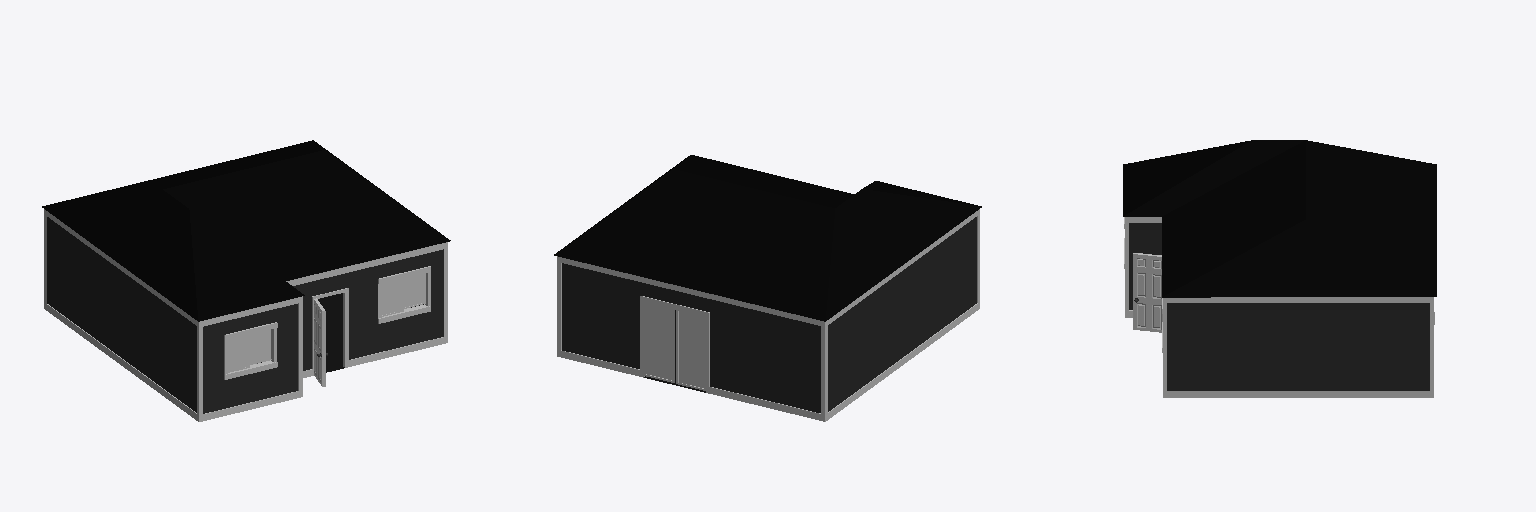
Rendered from House.obj.
The picture shows the model from 3 angles: view 1: azimuth 30°, elevation 25°; view 2: azimuth 150°, elevation 25°; view 3: azimuth 270°, elevation 25°; orthographic projection.
Parts seen in each view (by area): view 1: Vert, Cube, Vert.004, Vert.003; view 2: Vert, Vert.002; view 3: Vert, Cube.
Part boxes in pixels (x1,y1,x2,y2): Vert: (42, 140, 450, 421); Cube: (314, 298, 327, 386); Vert.004: (250, 329, 271, 364); Vert.003: (404, 273, 425, 308); Vert: (554, 155, 981, 421); Vert.002: (643, 302, 674, 382); Vert: (1123, 140, 1436, 397); Cube: (1133, 253, 1162, 332).
Size of the model in its own units: 16.55 by 8.9 by 16.55.